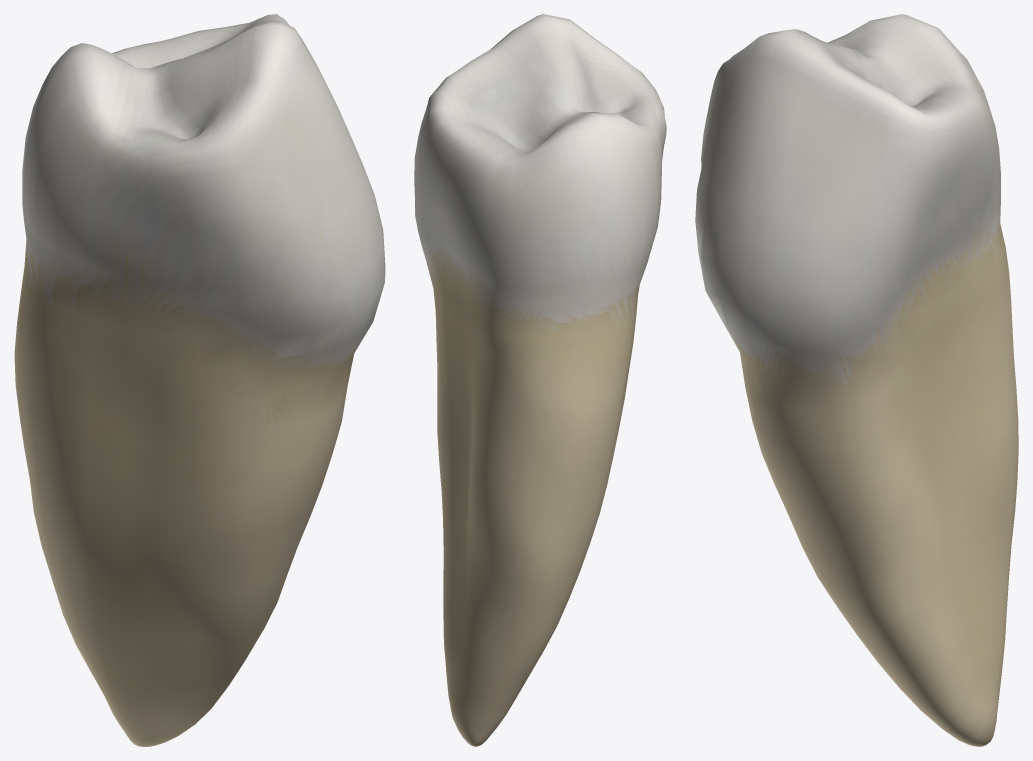
File: tooth-34.glb
3 views of the same model, side by side, from view 1: azimuth 30°, elevation 25°; view 2: azimuth 150°, elevation 25°; view 3: azimuth 270°, elevation 25° (orthographic). The views are drawn at different scales.
Parts seen in each view (by area): view 1: LL4seam_2:ZBrushPolyMesh3D_Mandible_ll4_0; view 2: LL4seam_2:ZBrushPolyMesh3D_Mandible_ll4_0; view 3: LL4seam_2:ZBrushPolyMesh3D_Mandible_ll4_0.
Part boxes in pixels (x1,y1,x2,y2): LL4seam_2:ZBrushPolyMesh3D_Mandible_ll4_0: [14, 14, 385, 746]; LL4seam_2:ZBrushPolyMesh3D_Mandible_ll4_0: [414, 14, 666, 746]; LL4seam_2:ZBrushPolyMesh3D_Mandible_ll4_0: [695, 14, 1018, 746].
Size of the model in its own units: 0.2852 by 0.7278 by 0.2952.
1 material, 1 textured.
